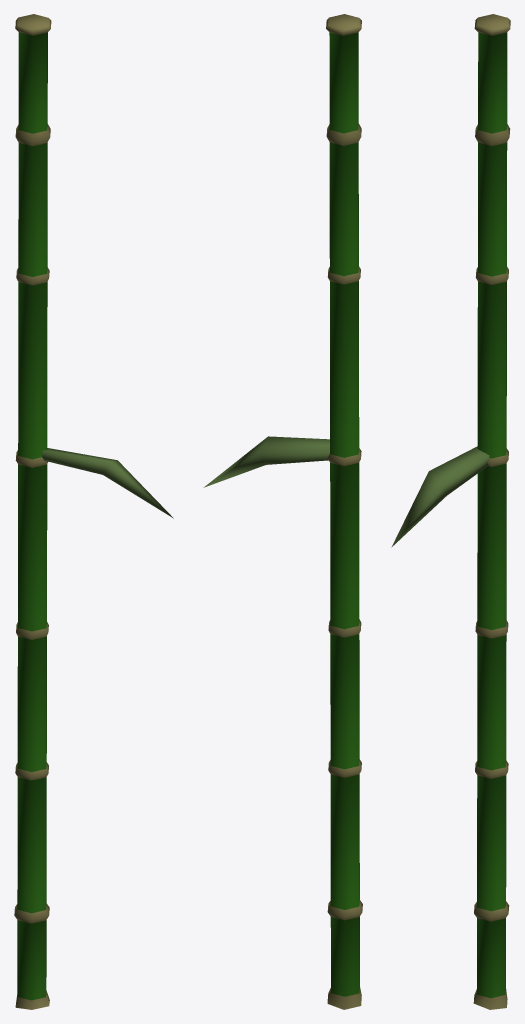
File: Bamboo_03.fbx
3 views of the same model, side by side, from view 1: azimuth 30°, elevation 25°; view 2: azimuth 210°, elevation 25°; view 3: azimuth 270°, elevation 25° (orthographic).
Parts seen in each view (by area): view 1: polySurface14; view 2: polySurface14; view 3: polySurface14.
Part boxes in pixels (x1=…): polySurface14: x1=14, y1=14, x2=173, y2=1009; polySurface14: x1=203, y1=14, x2=362, y2=1009; polySurface14: x1=391, y1=14, x2=510, y2=1009.
Size of the model in its own units: 21.4 by 183 by 20.21.
